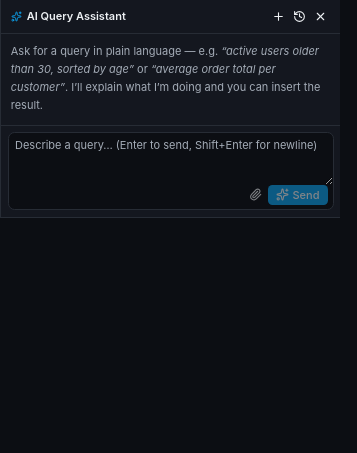
AIChatPanel › editor variant shows the JSON query (no runnable command, no Copy)
Type "adults" into the text box with test id "chat-input" at (170, 159), box [8,133,332,185]
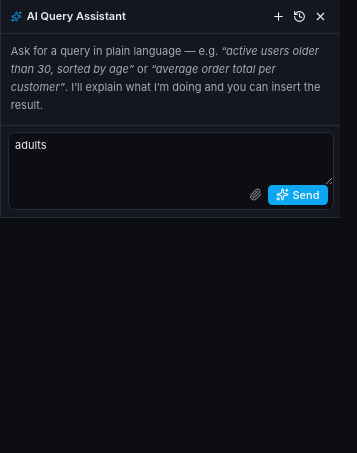
Click the button with test id "chat-send-btn" at (298, 195), box [268,185,328,204]
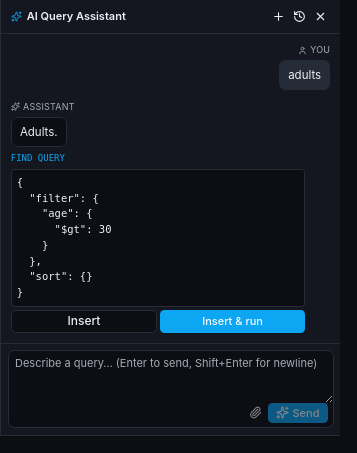
Now the element with test id "chat-query-card" is shown, box [11,152,305,333]
Now the text with test id "chat-query-json" shows "\"age\"", box [17,176,111,298]
Now the button with test id "chat-insert-btn" is shown, box [11,310,157,333]
